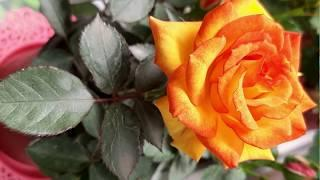Rose: (144, 0, 319, 165)
